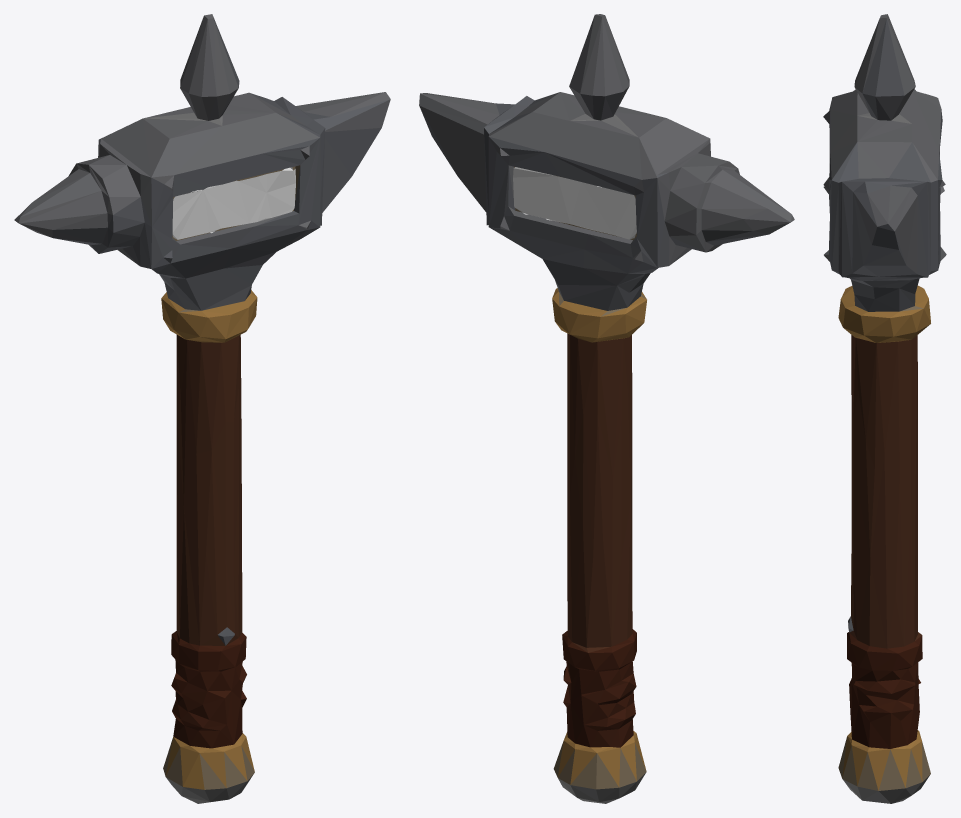
Rendered from aiwpn_hammer.glb.
3 renders of one model, left to right at view 1: azimuth 30°, elevation 25°; view 2: azimuth 150°, elevation 25°; view 3: azimuth 270°, elevation 25°, orthographic.
Visible parts, largest first — view 1: ca_aiwpn_hammer; view 2: ca_aiwpn_hammer; view 3: ca_aiwpn_hammer.
Part boxes in pixels (box(x1,y1,x2,y2)): ca_aiwpn_hammer: box(14, 14, 390, 803); ca_aiwpn_hammer: box(419, 14, 794, 803); ca_aiwpn_hammer: box(823, 14, 946, 803).
Bounding box in the file's own units: 0.8534 × 1.72 × 0.2462.
